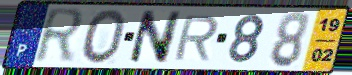8: (269, 10, 310, 69), (228, 13, 265, 65)
N: (125, 9, 184, 66)
O: (79, 8, 128, 66)
R: (31, 6, 87, 66), (171, 14, 221, 62)
